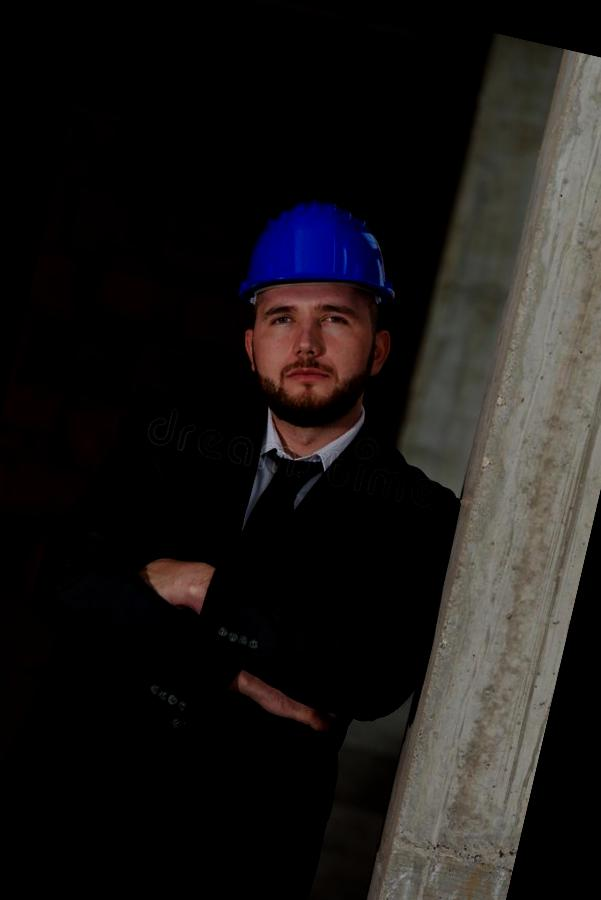helmet: (212, 174, 418, 344)
no_vest: (10, 373, 432, 894)
person: (0, 157, 528, 900)
